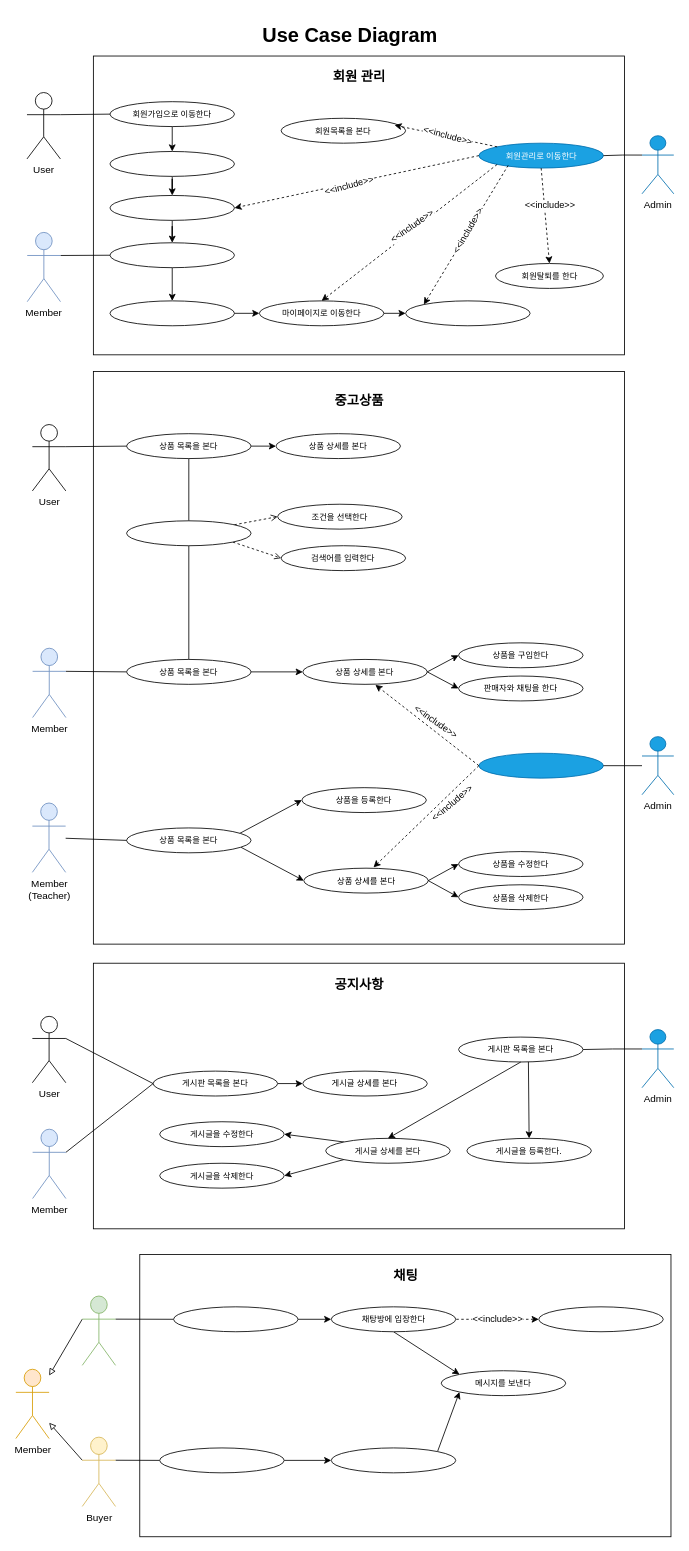
Some shapes in this 689 by 1551 pixel diagram are drawn without their labels. The box of each missing label's shape, as (x1, y1, x2, y2) in pixels:
Seller: (81, 1295, 116, 1365)
로그인 정보를 입력한다: (109, 300, 234, 326)
로그인으로 이동한다: (109, 242, 234, 268)
상품관리로 이동한다: (478, 752, 603, 778)
상품을 검색한다: (126, 520, 251, 546)
약관에 동의한다: (109, 151, 234, 176)
채팅 목록을 본다: (159, 1447, 284, 1473)
채팅방에 입장한다: (330, 1447, 456, 1473)
채팅방이 생성된다: (538, 1306, 663, 1332)
채팅을 시작한다: (173, 1306, 298, 1332)
회원정보를 수정한다: (405, 300, 530, 326)
회원정보를 입력한다: (109, 195, 234, 220)
